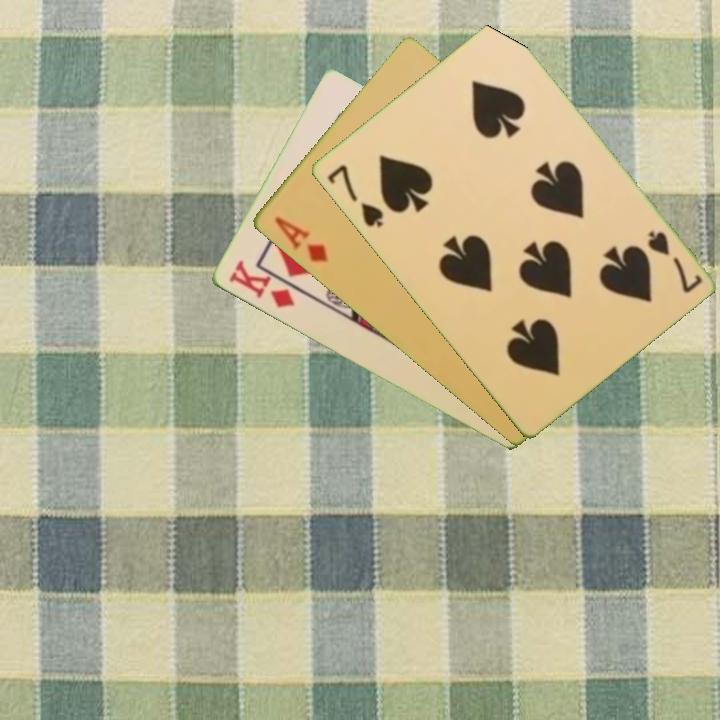7s: (323, 161, 386, 231), (643, 227, 705, 296)
Ad: (270, 213, 330, 266)
Kd: (224, 257, 298, 312)
